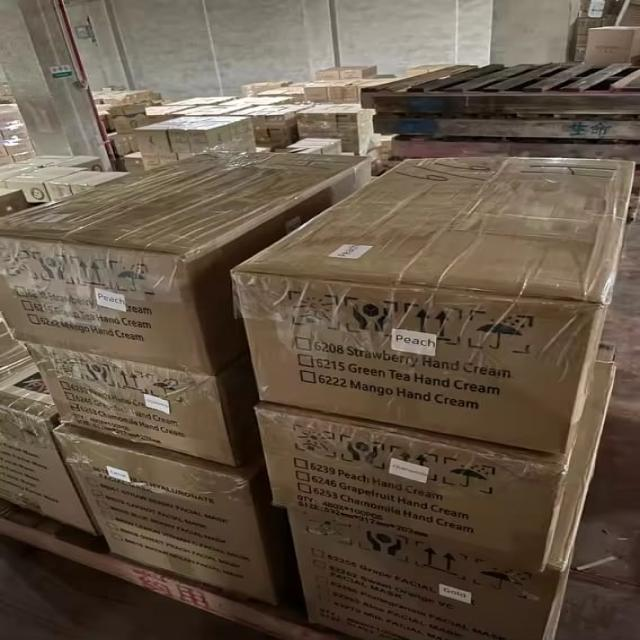carton_box: (226, 145, 638, 463), (0, 142, 390, 374), (243, 389, 624, 578), (270, 485, 639, 640), (43, 412, 292, 612), (5, 328, 271, 471)
export_mark_label: (386, 318, 446, 360), (89, 289, 132, 314)
handle_with_care_label: (344, 289, 398, 343), (336, 424, 379, 472), (366, 521, 410, 565), (32, 245, 74, 291), (79, 356, 121, 386)
keep_dry_label: (464, 308, 547, 361), (442, 450, 504, 498), (477, 559, 522, 607), (108, 250, 152, 297), (146, 375, 192, 404)
protect_from_heat_label: (278, 280, 339, 336), (304, 511, 358, 552), (284, 419, 334, 462), (44, 343, 84, 379), (5, 248, 36, 279)
this_side_up_label: (404, 297, 461, 345), (417, 540, 468, 589), (388, 439, 439, 483), (69, 251, 116, 296), (111, 362, 153, 398)
